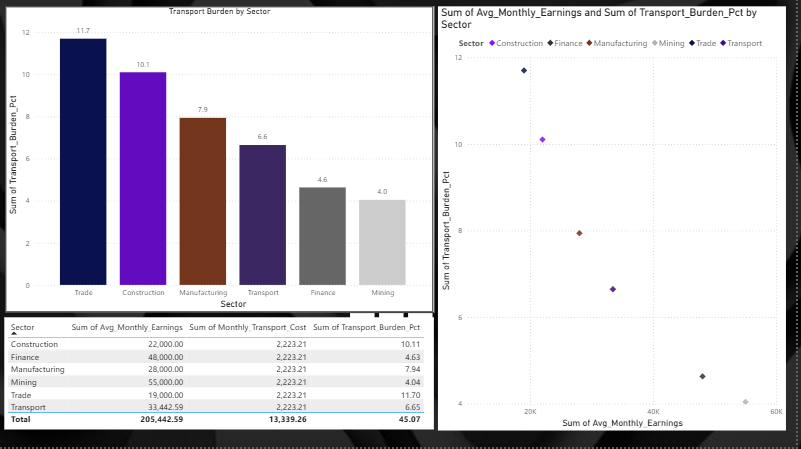

The dashboard page shown, as its layout file describes it:
{"tool":"powerbi","page":{"name":"Sector Inequality (using Sector_Comparison)","canvas":[1280,720],"ordinal":1},"visuals":[{"type":"columnChart","title":"Transport Burden by Sector","fields":{"Category":["week2_sector_comparison.Sector"],"Y":["Sum(week2_sector_comparison.Transport_Burden_Pct)"]},"box":[12.7,12.7,687.3,490],"z":0},{"type":"tableEx","fields":{"Values":["week2_sector_comparison.Sector","Sum(week2_sector_comparison.Avg_Monthly_Earnings)","Sum(week2_sector_comparison.Monthly_Transport_Cost)","Sum(week2_sector_comparison.Transport_Burden_Pct)"]},"box":[11.8,511.8,688.2,180],"z":1000},{"type":"scatterChart","fields":{"Y":["Sum(week2_sector_comparison.Transport_Burden_Pct)"],"X":["Sum(week2_sector_comparison.Avg_Monthly_Earnings)"],"Series":["week2_sector_comparison.Sector"]},"box":[707.4,13,557.6,680],"z":2000}]}

Visuals, with their boxes in screenshot pixels (x1, y1, x2, y2), scaled from the page's 1280x720 canvas onto the 801x449 screenshot:
"Transport Burden by Sector" columnChart: box=[8, 8, 438, 313]
tableEx - week2_sector_comparison.Sector x Sum(week2_sector_comparison.Avg_Monthly_Earnings): box=[7, 319, 438, 431]
scatterChart - Sum(week2_sector_comparison.Transport_Burden_Pct) x Sum(week2_sector_comparison.Avg_Monthly_Earnings): box=[443, 8, 792, 432]
